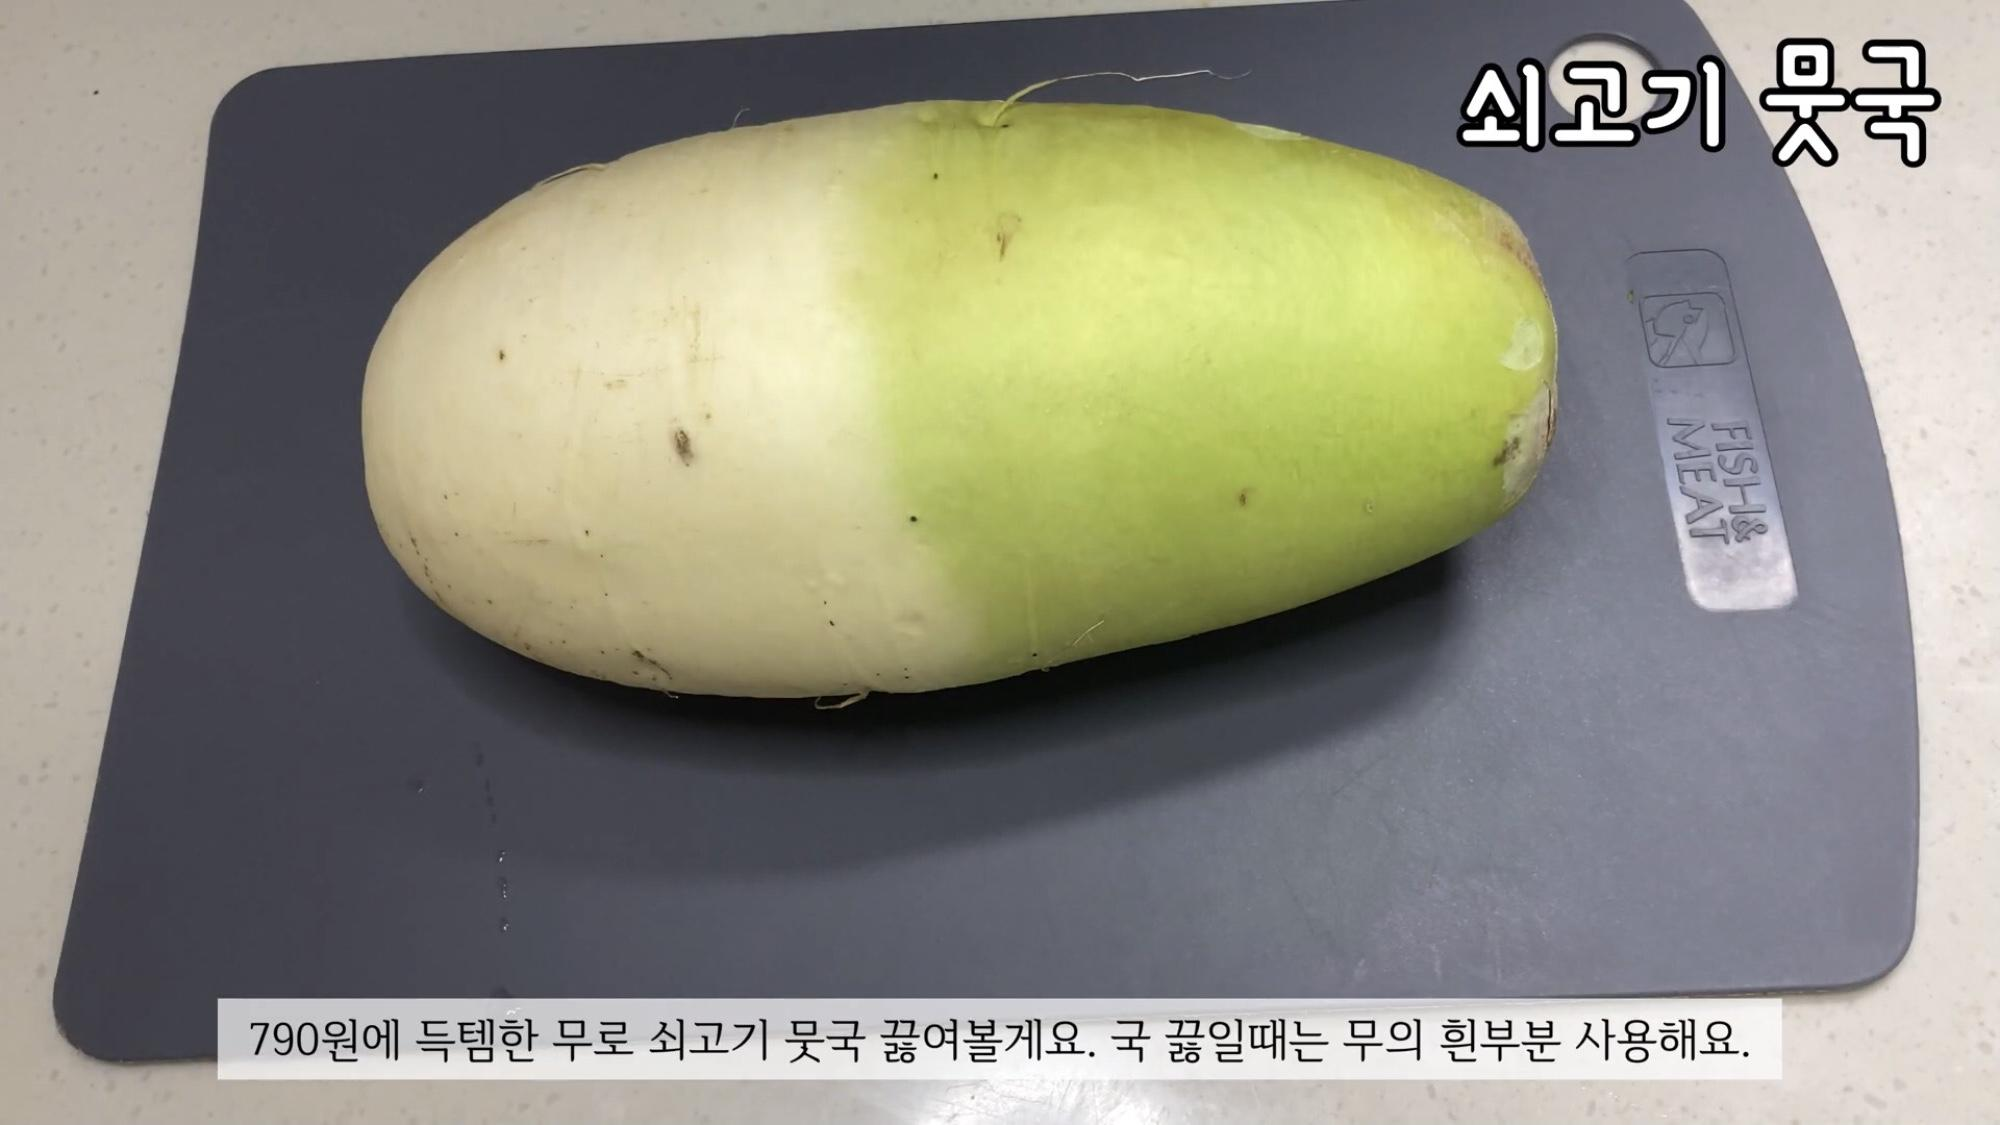radish: (1000, 271, 2000, 1125)
